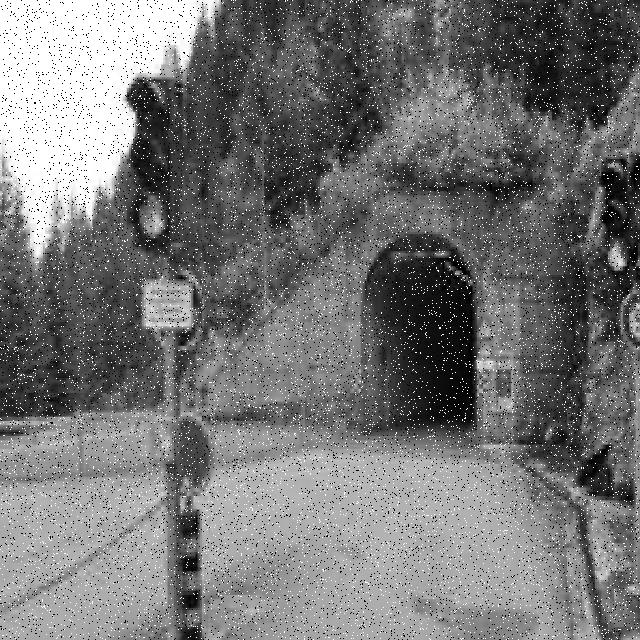clear-road: (208, 430, 578, 640)
